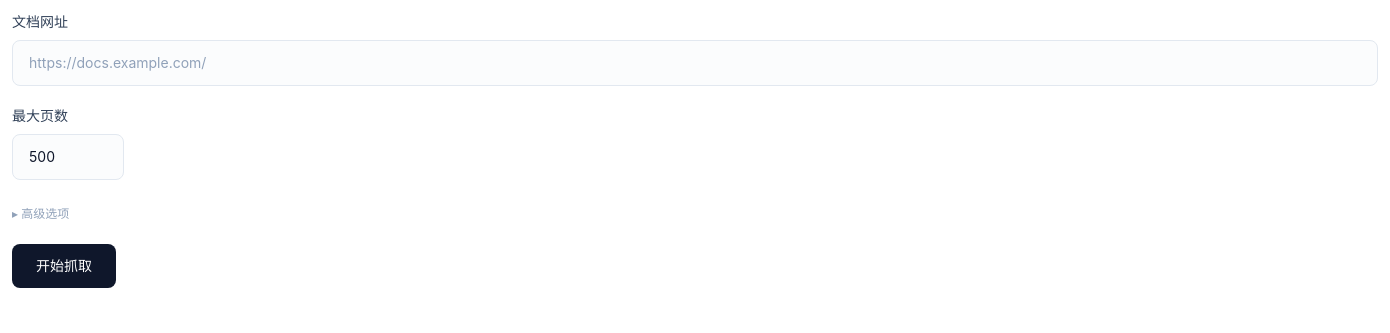
Scenario: UrlInputForm › shows validation error for invalid URL
In the field labelled "文档网址": (695, 63) [12,40,1378,86], type "not-a-valid-url"
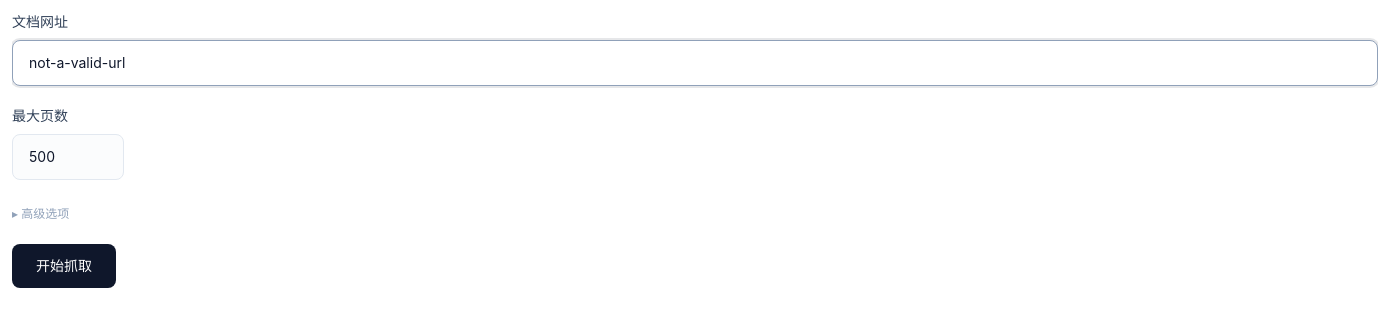
Click the button "开始抓取": (64, 266) [12,244,116,288]
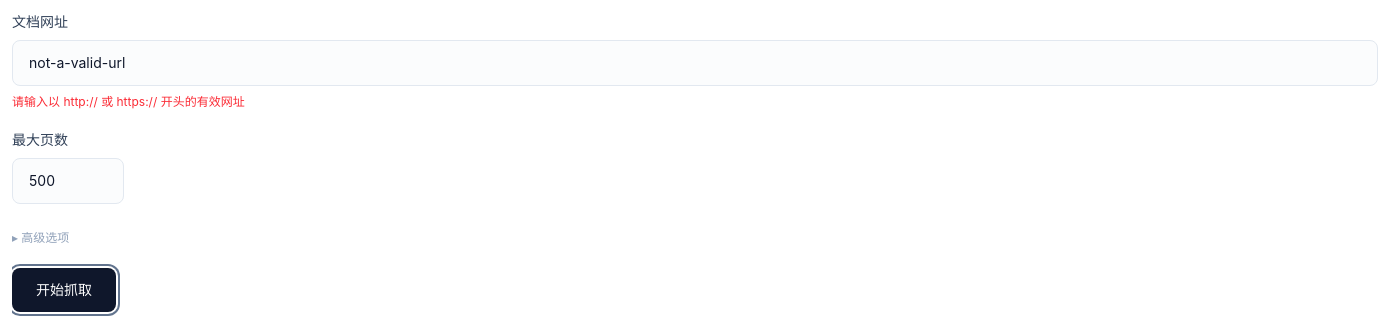
Result: the message is shown at [12,94,245,109]
